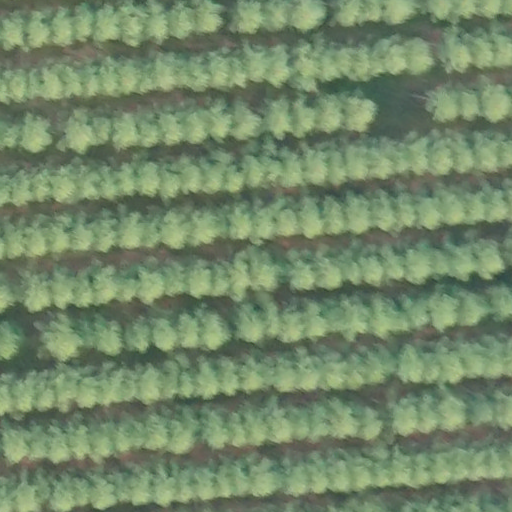eucalipto: (35, 316, 86, 365), (191, 305, 239, 353), (61, 109, 111, 155), (154, 203, 194, 252), (261, 90, 296, 142), (80, 262, 119, 306), (165, 410, 204, 454), (476, 79, 512, 126), (421, 83, 463, 123), (340, 90, 378, 134), (335, 294, 371, 339), (295, 189, 326, 241), (17, 112, 52, 156), (16, 269, 51, 313), (191, 205, 226, 249), (400, 36, 436, 78), (133, 261, 166, 306), (91, 313, 123, 359), (286, 249, 319, 293), (178, 103, 211, 147), (153, 50, 187, 92), (369, 189, 401, 233), (261, 401, 293, 445), (394, 344, 426, 387), (445, 239, 477, 282), (139, 413, 174, 452), (45, 267, 76, 311), (235, 300, 264, 347), (454, 292, 488, 331), (275, 144, 305, 188), (436, 394, 469, 434), (405, 131, 433, 178), (53, 163, 85, 204), (149, 312, 179, 355), (150, 462, 180, 505), (311, 91, 341, 134), (93, 4, 125, 44), (350, 404, 385, 440), (413, 194, 443, 235), (133, 365, 163, 406), (86, 471, 116, 512), (74, 374, 105, 413), (91, 206, 119, 249), (393, 396, 421, 439), (323, 456, 353, 496), (307, 146, 336, 187), (400, 293, 432, 330), (134, 106, 162, 148), (295, 347, 320, 394), (134, 156, 161, 199), (27, 8, 55, 49), (69, 4, 97, 45), (187, 259, 215, 300), (252, 199, 280, 239), (300, 298, 328, 338), (43, 423, 70, 461), (21, 220, 44, 260), (126, 318, 151, 354)
